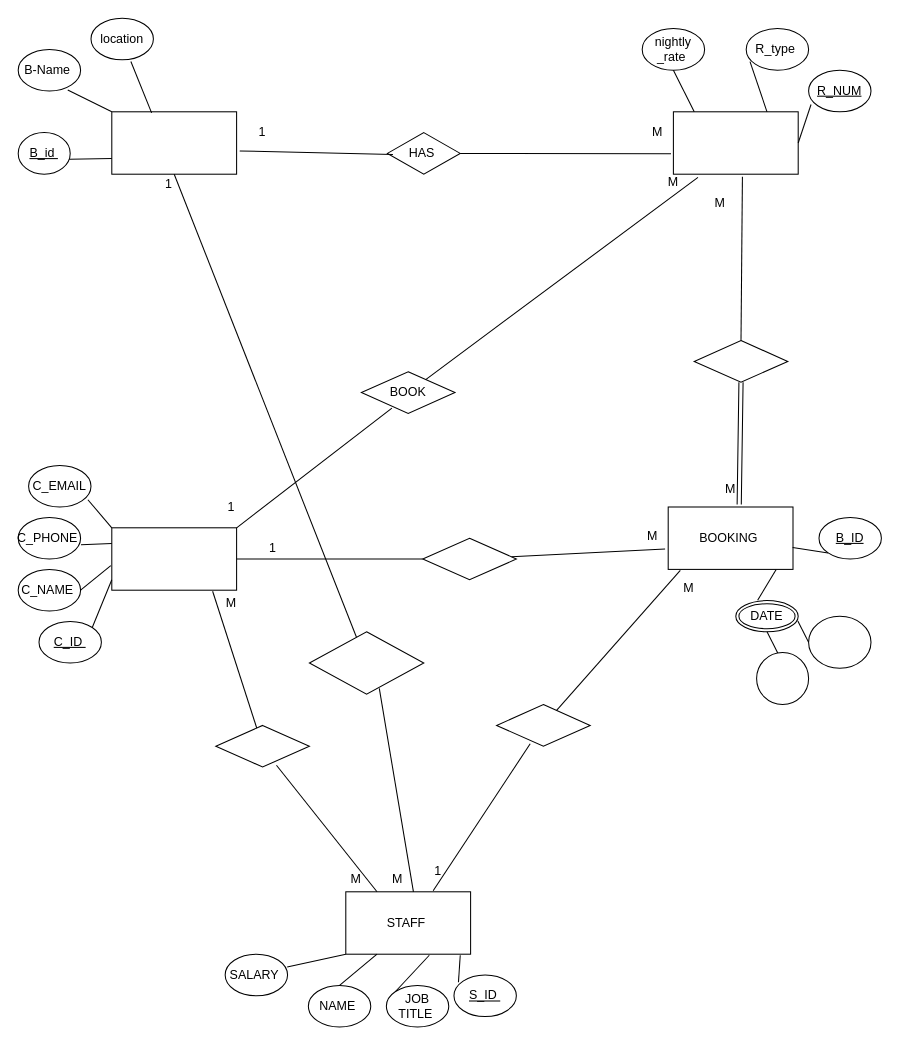
Some shapes in this 900 by 1045 pixel diagram are drawn without their labels. The centre of each missing label's shape, as x and y in pixels:
ASSIGHNED TO: point (366, 662)
branchs: point (174, 142)
CAN: point (543, 725)
CHECK IN DATE: point (782, 678)
CHECK OUT DATE: point (839, 641)
CHECKING: point (262, 745)
CUSTOMER: point (174, 558)
LINKED TO: point (469, 558)
ROOM: point (735, 142)
TRACK: point (740, 361)
